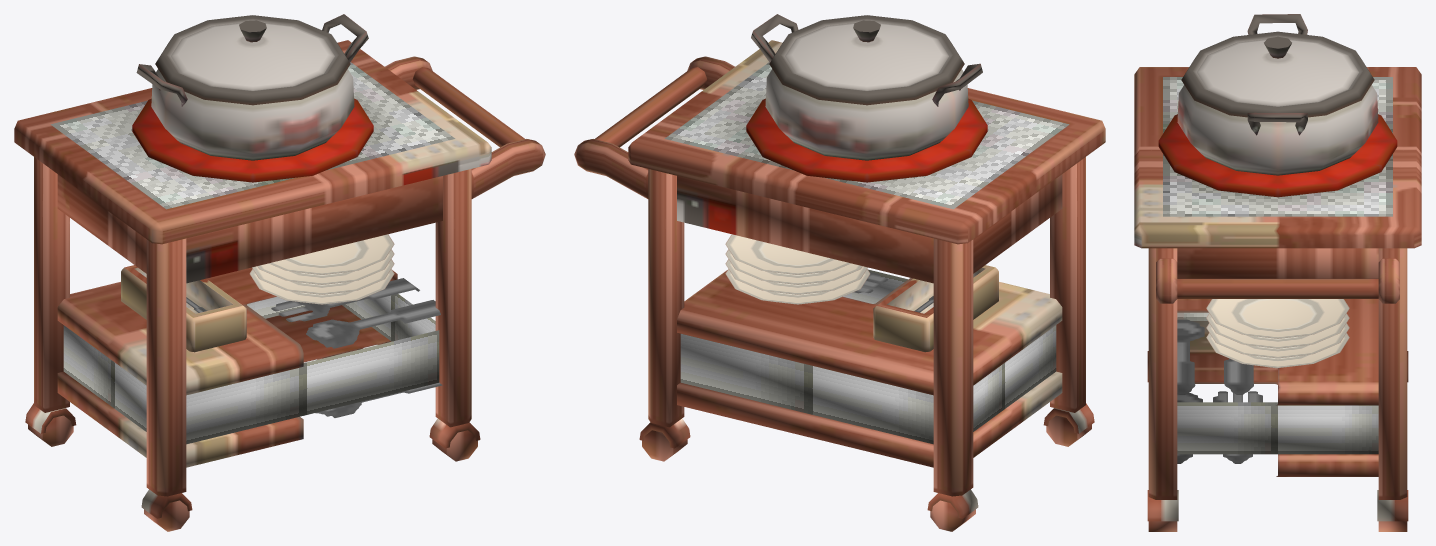
Rendered from rmk_scd_wagon uv fix.dae.
The picture shows the model from 3 angles, left to right: view 1: azimuth 30°, elevation 25°; view 2: azimuth 150°, elevation 25°; view 3: azimuth 270°, elevation 25°; orthographic projection.
Visible parts, largest first — view 1: vsn_mesh_0_, vsn_mesh_1_.1; view 2: vsn_mesh_0_, vsn_mesh_1_.1; view 3: vsn_mesh_0_, vsn_mesh_1_.1.
Part boxes in pixels (x1=…): vsn_mesh_0_: x1=14, y1=14, x2=545, y2=531; vsn_mesh_1_.1: x1=50, y1=62, x2=455, y2=444; vsn_mesh_0_: x1=574, y1=14, x2=1105, y2=531; vsn_mesh_1_.1: x1=664, y1=62, x2=1069, y2=444; vsn_mesh_0_: x1=1134, y1=14, x2=1421, y2=531; vsn_mesh_1_.1: x1=1163, y1=77, x2=1392, y2=454.
Bounding box in the file's own units: 32.06 × 32 × 20.
Materials: 3 (3 with a texture image).
